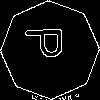P: (25, 25, 72, 60)
